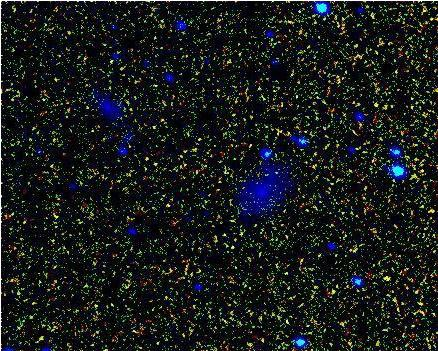star: (372, 261, 402, 291)
